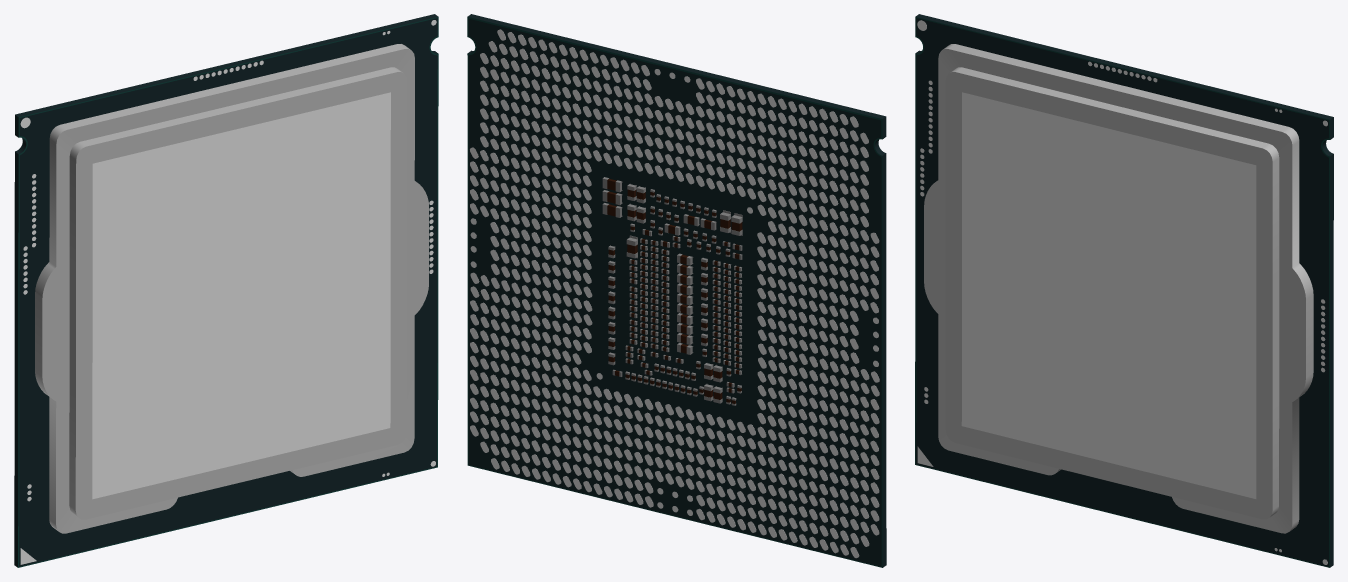
The model's file is ProcessorIntel.fbx.
3 renders of one model, left to right at view 1: azimuth 30°, elevation 25°; view 2: azimuth 150°, elevation 25°; view 3: azimuth 330°, elevation 25°, orthographic.
Parts seen in each view (by area): view 1: Cube.047, General; view 2: General, Plane.027, Plane.029, Plane.026, Plane.028, Plane.030, Plane.031, Plane.001, Plane.003, Plane.007, Plane.004, Plane.006 (+50 smaller); view 3: Cube.047, General.
Boxes of the visible parts, <box> form: Cube.047: <box>35,44,428,533</box>; General: <box>14,14,438,567</box>; General: <box>467,14,886,567</box>; Plane.027: <box>470,369,879,479</box>; Plane.029: <box>470,397,879,507</box>; Plane.026: <box>470,356,879,465</box>; Plane.028: <box>470,383,879,493</box>; Plane.030: <box>470,411,879,521</box>; Plane.031: <box>470,425,879,535</box>; Plane.001: <box>480,53,868,157</box>; Plane.003: <box>480,66,868,171</box>; Plane.007: <box>480,122,868,227</box>; Plane.004: <box>480,80,868,185</box>; Plane.006: <box>480,108,868,213</box>; Cube.047: <box>924,44,1313,533</box>; General: <box>915,14,1333,567</box>.
Size of the model in its own units: 1.26 by 1.29 by 0.1097.
